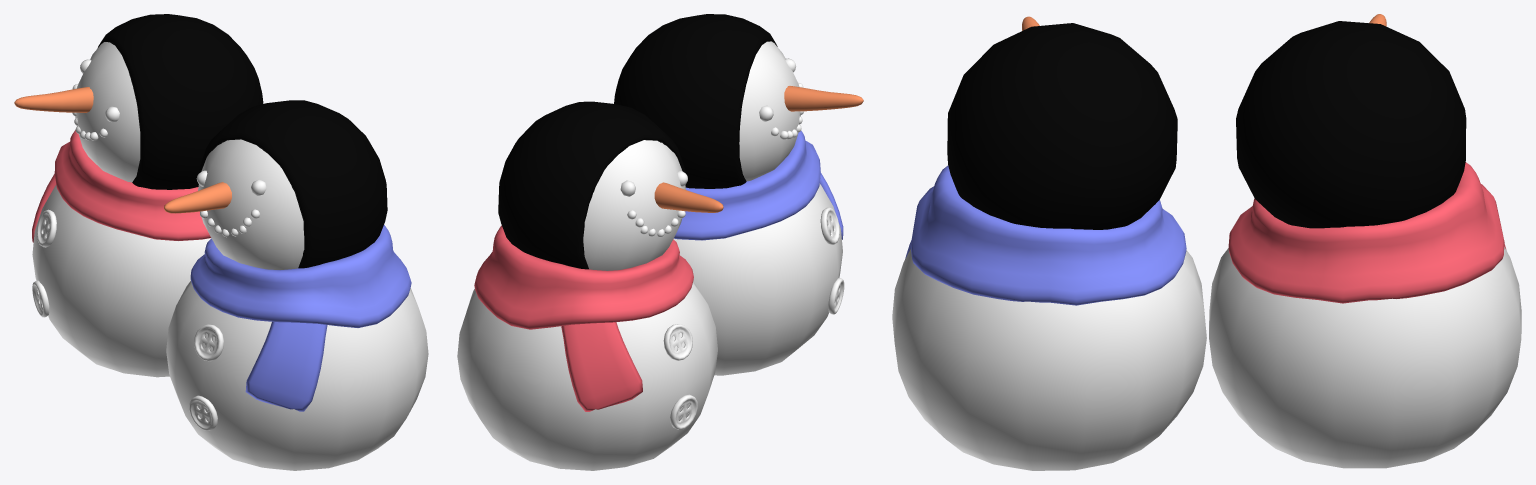
File: Winter_Obstacle 2.fbx
The picture shows the model from 3 angles, left to right: view 1: azimuth 30°, elevation 25°; view 2: azimuth 150°, elevation 25°; view 3: azimuth 270°, elevation 25°; orthographic projection. The views are drawn at different scales.
Parts seen in each view (by area): view 1: polySurface41; view 2: polySurface41; view 3: polySurface41.
Boxes of the visible parts, x1,y1,x2,y2 form: polySurface41: (14, 14, 428, 470); polySurface41: (457, 14, 863, 470); polySurface41: (892, 14, 1521, 470).
Bounding box in the file's own units: 299 × 367 × 519.
